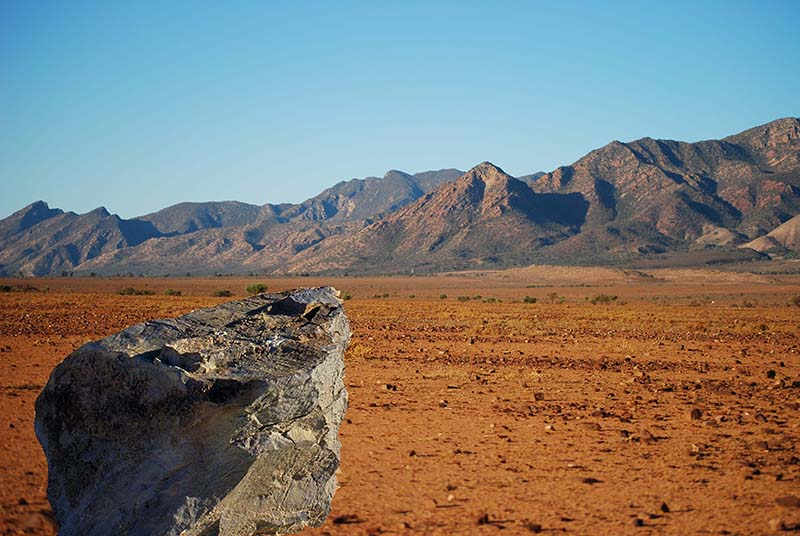Rocks: (28, 284, 355, 536)
